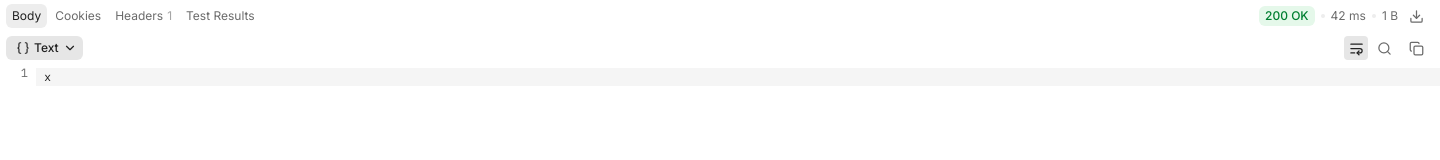
Test case: copy body › shows an inline note when the clipboard rejects
The width and height of the screenshot is (1440, 160).
Click the button named "Copy body" at x=1416, y=48, box top-left (1404, 36), bottom-right (1428, 60)
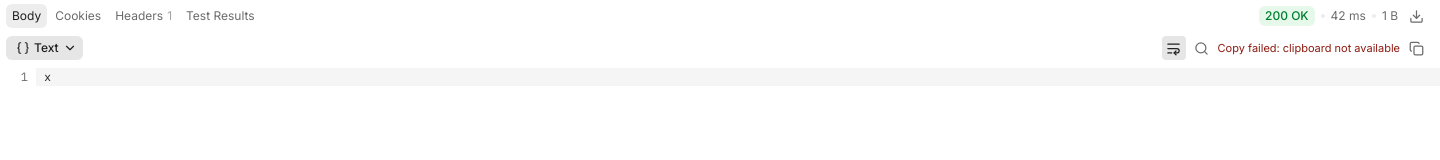
expect the text "Copy failed: clipboard not available" is shown: met, box top-left (1218, 38), bottom-right (1400, 58)
